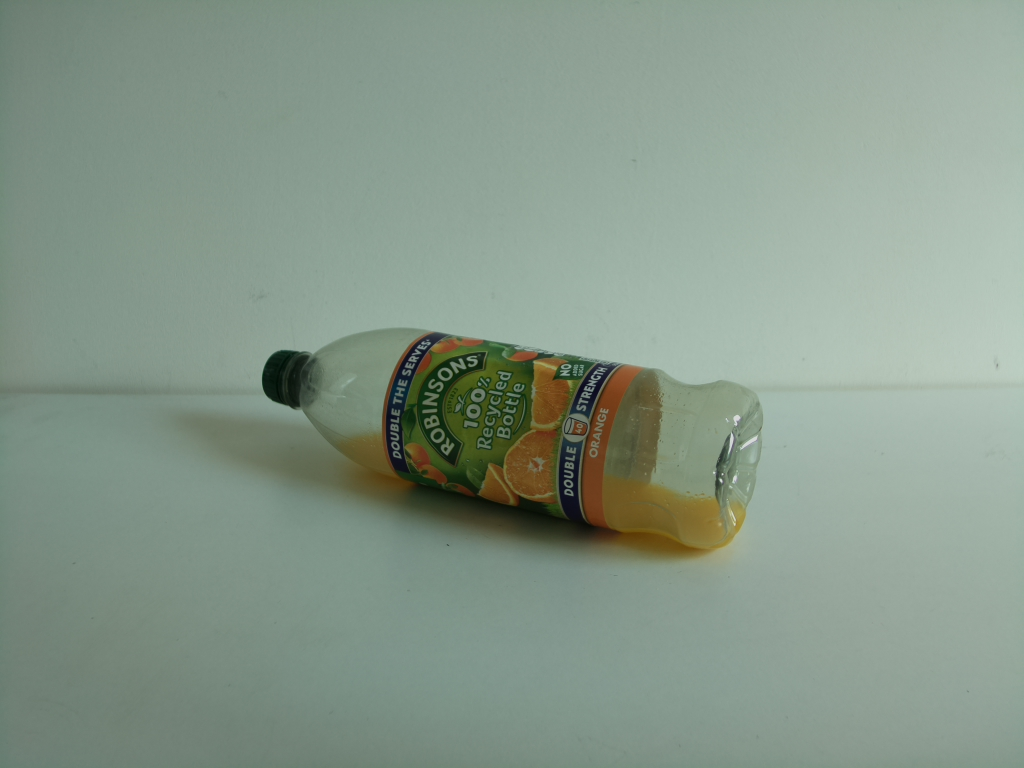juice: (259, 324, 766, 556)
